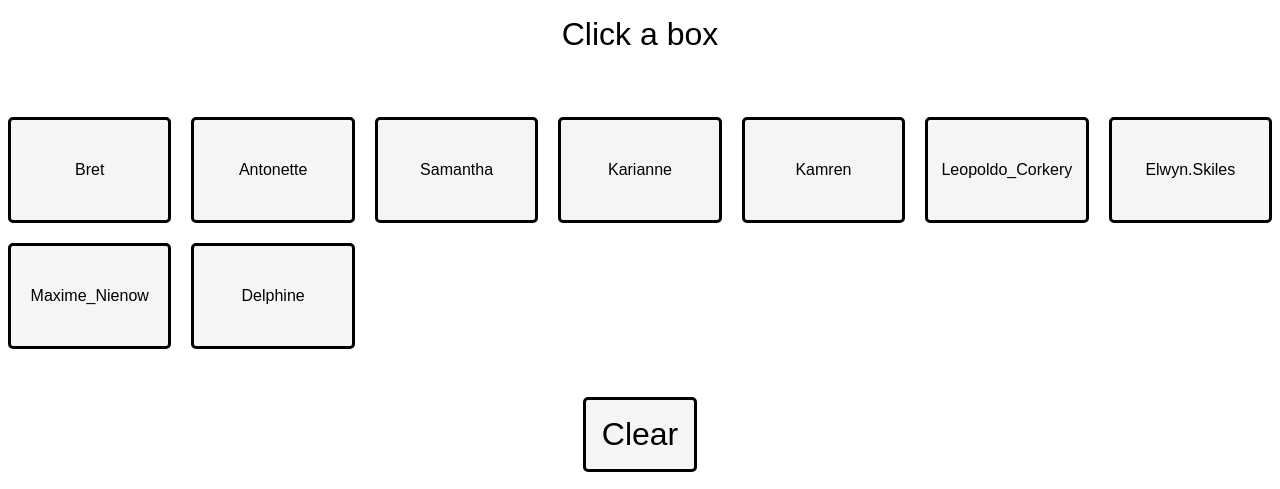
Scenario: App Page › Resets the label to the initial value on 'Clear' click
Step 1. Click the element with test id "flex-item" showing "Bret" → click(90, 170), box left=8, top=117, right=171, bottom=223
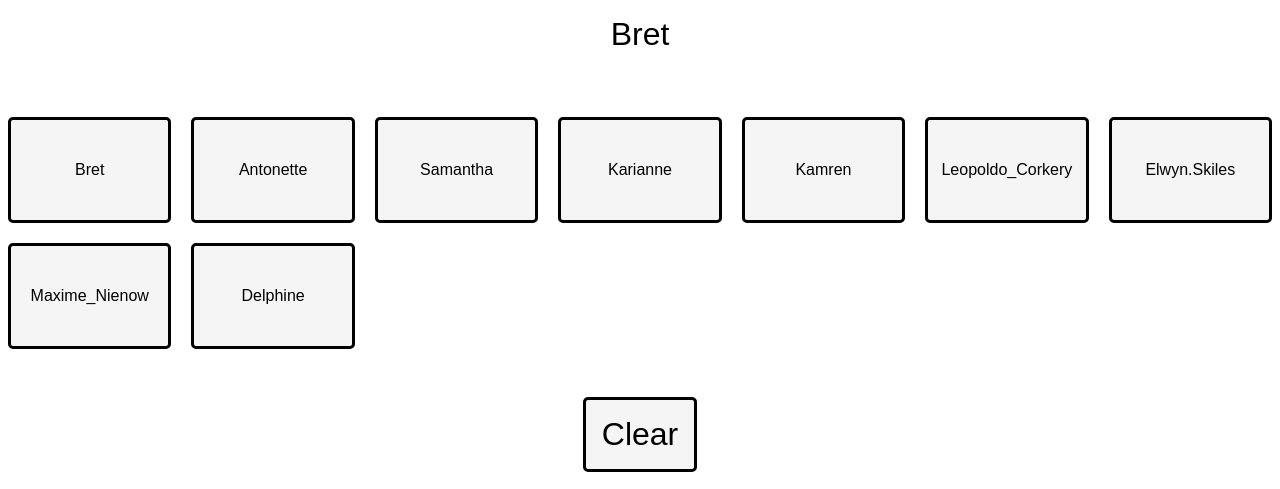
Step 2. Click the button with test id "clear" → click(641, 435), box left=583, top=397, right=698, bottom=472
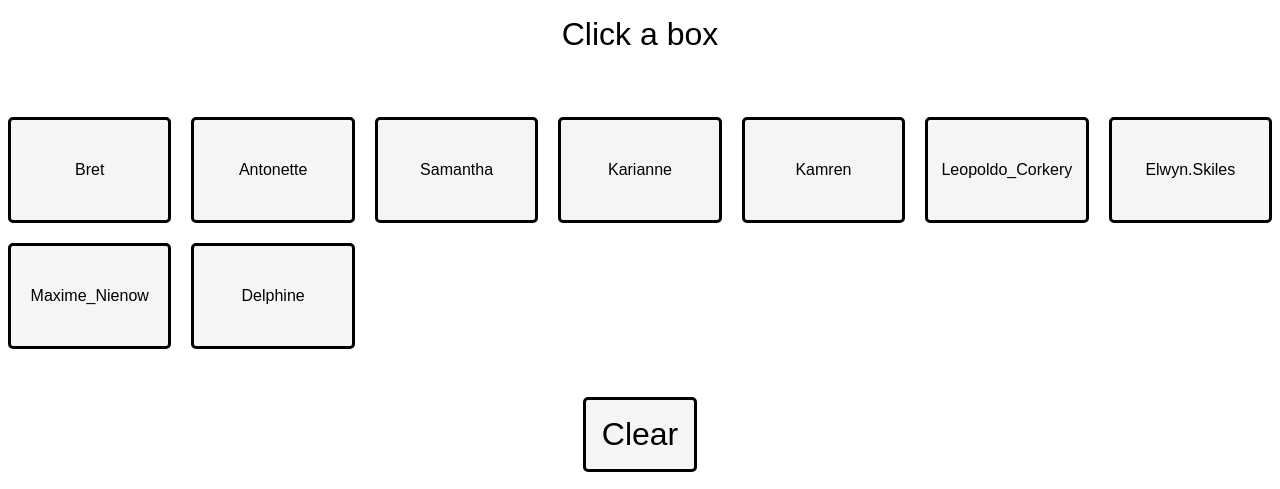
Expected: the text with test id "label" reads "Click a box", left=562, top=16, right=719, bottom=53
